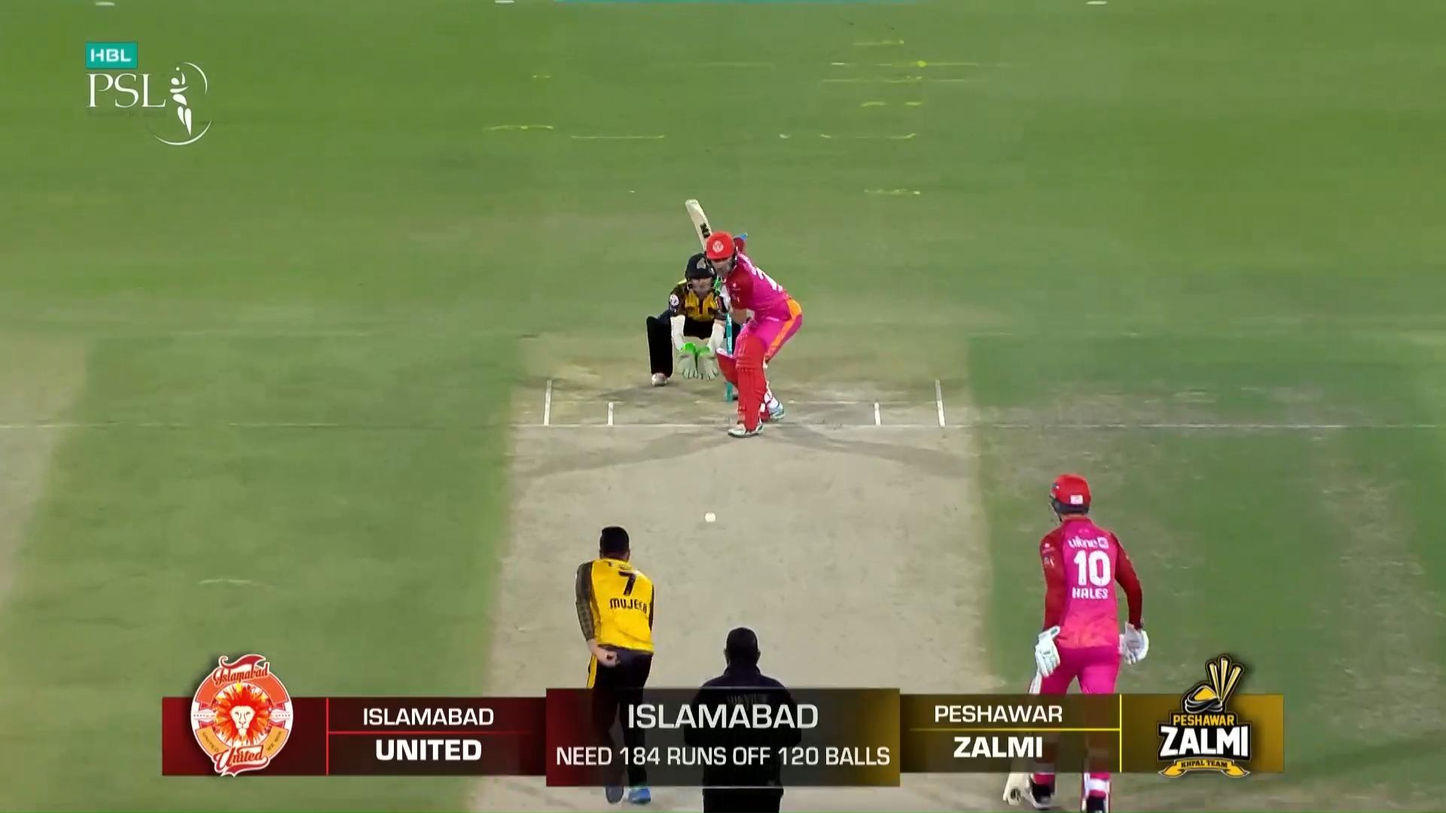batsman: (685, 199, 802, 438)
